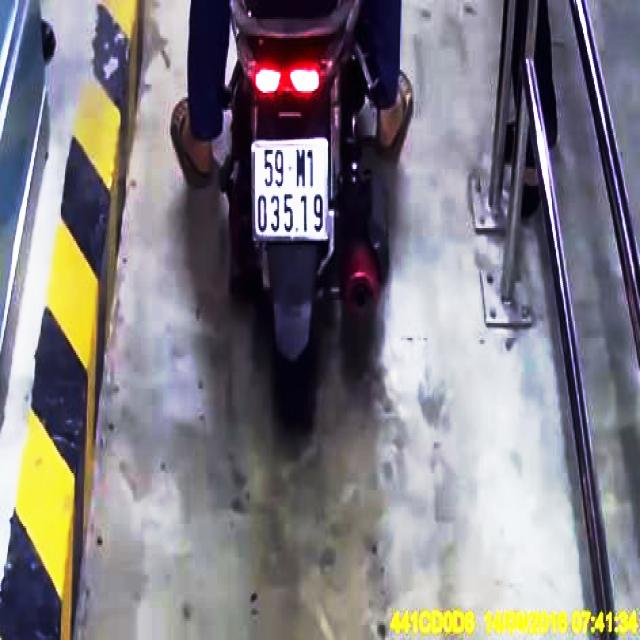license_plate: (254, 139, 331, 241)
